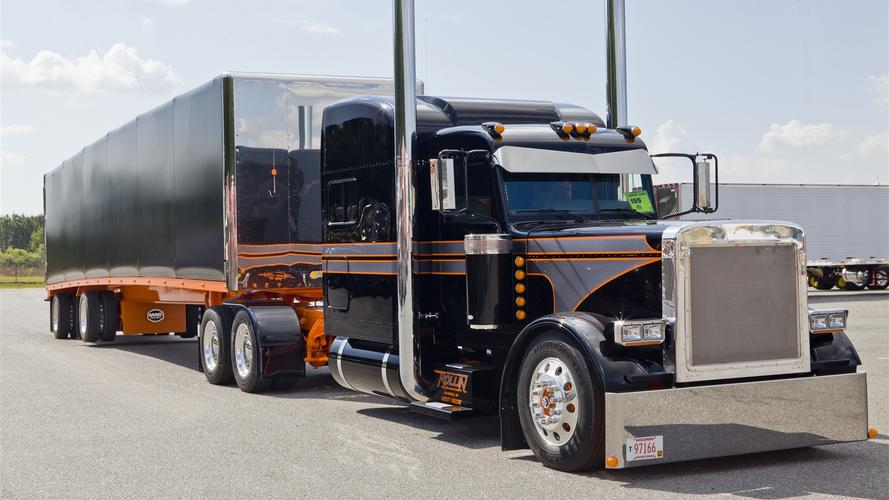卡车: (28, 22, 885, 476)
